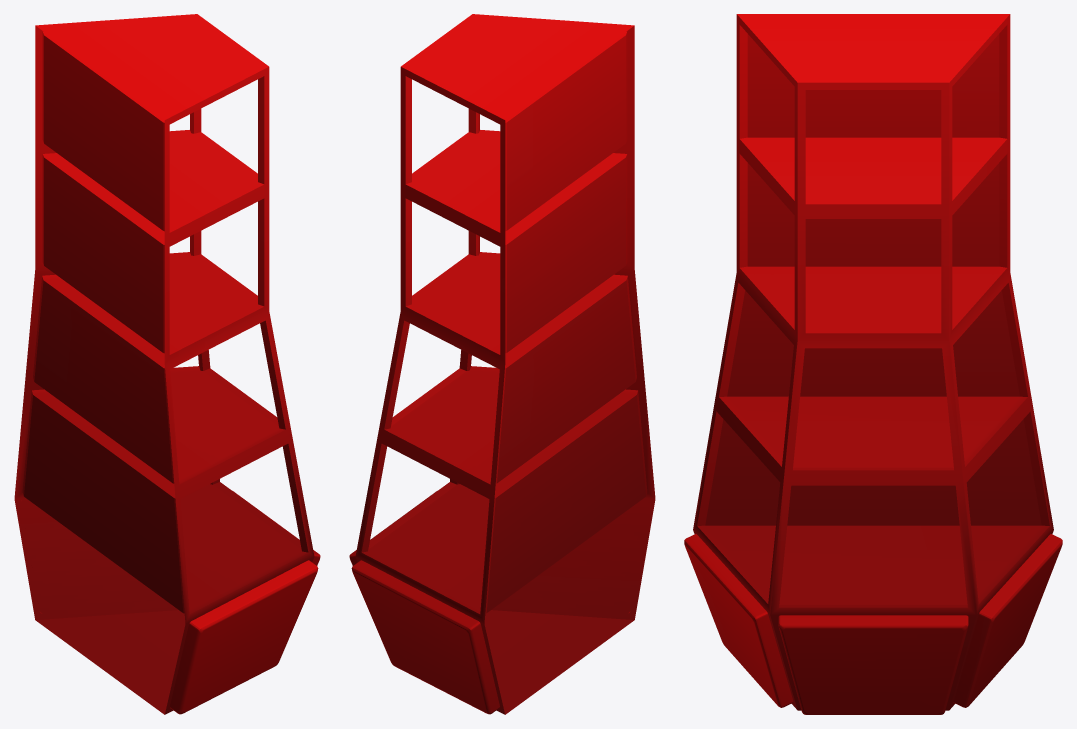
The model's file is Shelf_Corner_Fruit.fbx.
The picture shows the model from 3 angles, left to right: view 1: azimuth 30°, elevation 25°; view 2: azimuth 150°, elevation 25°; view 3: azimuth 270°, elevation 25°; orthographic projection. The views are drawn at different scales.
Visible parts, largest first — view 1: Shelf_Corner_Fruit; view 2: Shelf_Corner_Fruit; view 3: Shelf_Corner_Fruit.
Boxes of the visible parts, x1,y1,x2,y2 form: Shelf_Corner_Fruit: [14, 14, 320, 714]; Shelf_Corner_Fruit: [349, 14, 655, 714]; Shelf_Corner_Fruit: [684, 14, 1062, 714].
Size of the model in its own units: 5.37 by 17.22 by 9.41.
